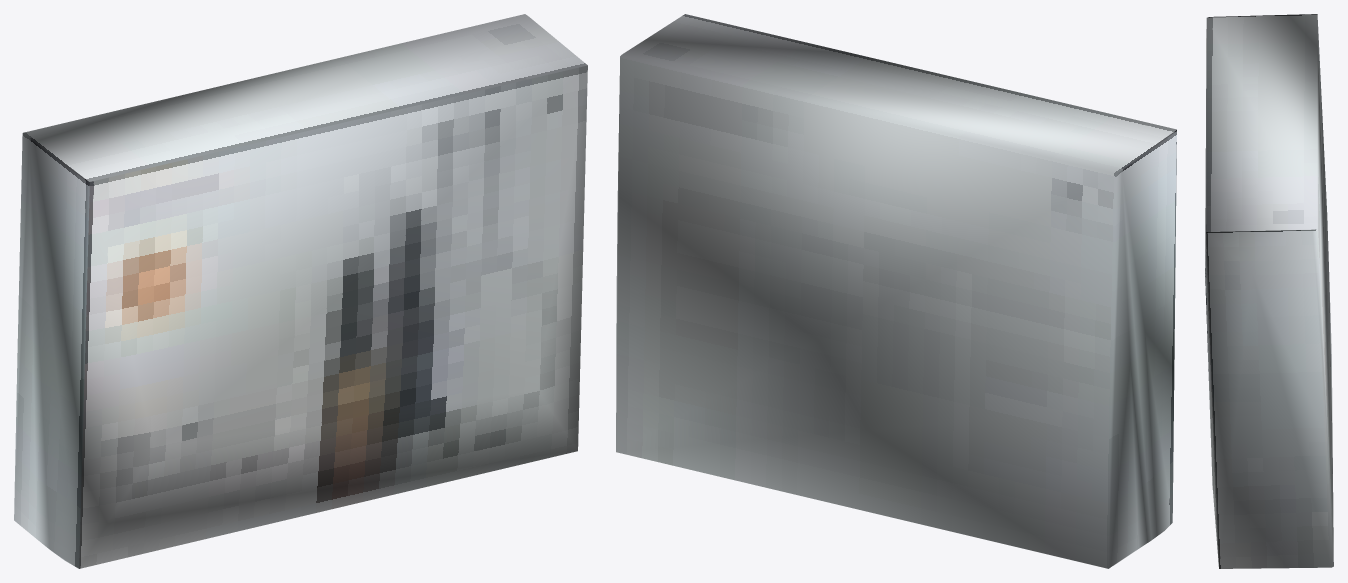
Rendered from Perricone_MD_The_Power_Treatments-low.glb.
3 renders of one model, left to right at view 1: azimuth 30°, elevation 25°; view 2: azimuth 150°, elevation 25°; view 3: azimuth 270°, elevation 25°, orthographic. The views are drawn at different scales.
Visible parts, largest first — view 1: Perricone_MD_The_Power_Treatments; view 2: Perricone_MD_The_Power_Treatments; view 3: Perricone_MD_The_Power_Treatments.
Part boxes in pixels (x1,y1,x2,y2): Perricone_MD_The_Power_Treatments: (14, 14, 587, 568); Perricone_MD_The_Power_Treatments: (616, 14, 1176, 568); Perricone_MD_The_Power_Treatments: (1205, 14, 1333, 568).
Size of the model in its own units: 0.2104 by 0.1574 by 0.0533.
1 material, 1 textured.
